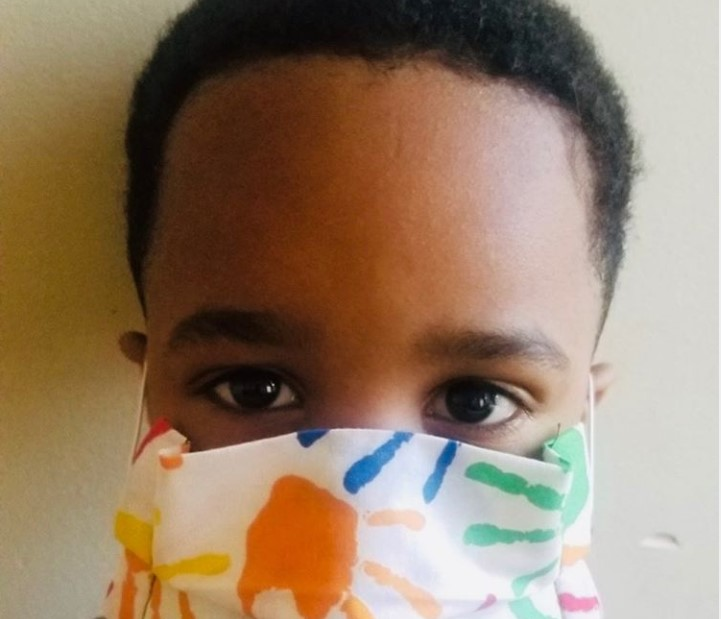face_with_mask: (110, 2, 628, 615)
